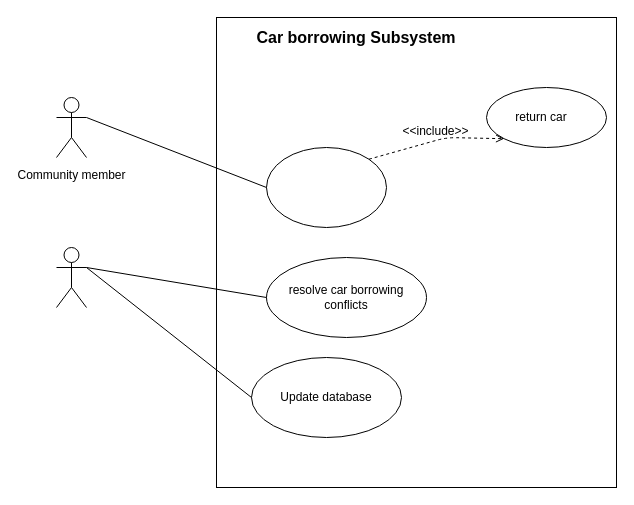
Image size: 634x505. Some labels were removed from this diagram. Each missing label, with the centre of its shape:
administrator: the point at 71,277
borrow a car: the point at 326,187
